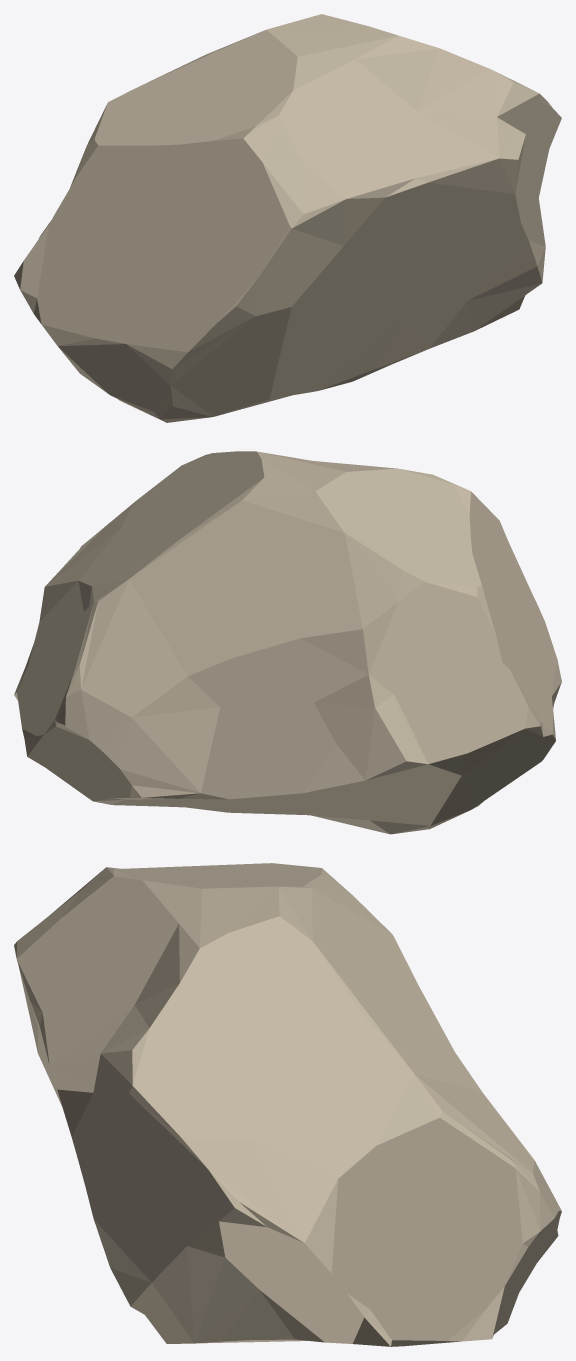
Rendered from kamien3.fbx.
3 views of the same model, one above another, from view 1: azimuth 30°, elevation 25°; view 2: azimuth 150°, elevation 25°; view 3: azimuth 270°, elevation 25° (orthographic). The views are drawn at different scales.
Parts seen in each view (by area): view 1: Cube.007; view 2: Cube.007; view 3: Cube.007.
Boxes of the visible parts, box(x1,y1,x2,y2) form: Cube.007: box(14, 14, 561, 422); Cube.007: box(14, 451, 561, 834); Cube.007: box(14, 863, 561, 1346).
Size of the model in its own units: 654 by 398 by 501.
